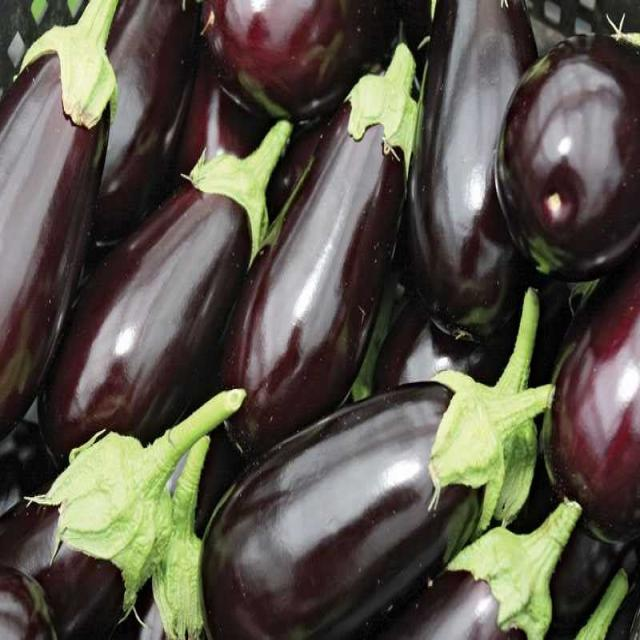Eggplant-r1Ob: (202, 371, 549, 638), (40, 120, 291, 458), (221, 43, 418, 459), (0, 0, 118, 434), (409, 0, 536, 339)
